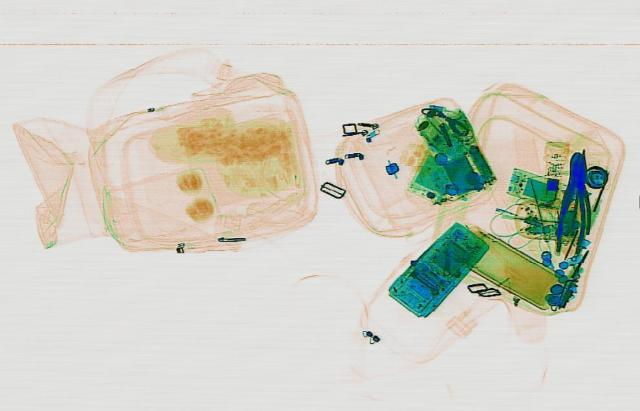Pliers: (552, 152, 594, 253), (552, 152, 594, 235)
